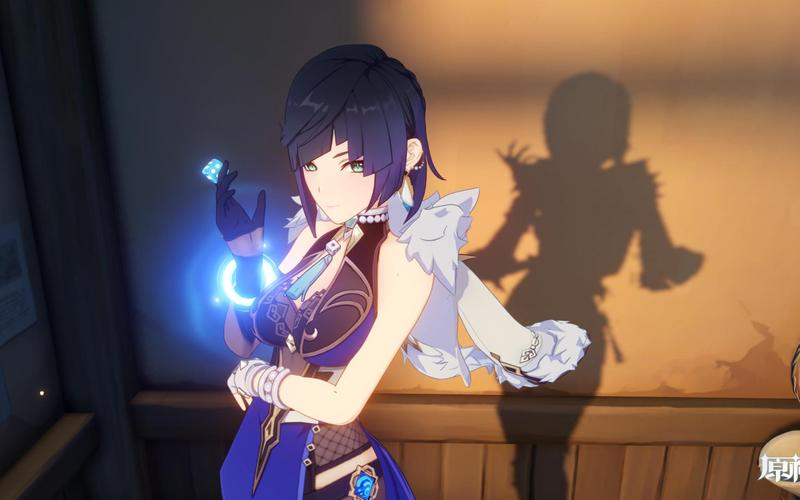夜兰: (208, 42, 436, 500)
